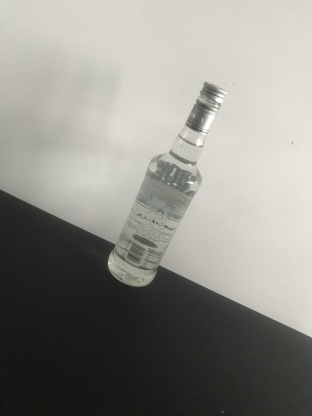nakretka: (183, 78, 228, 136)
